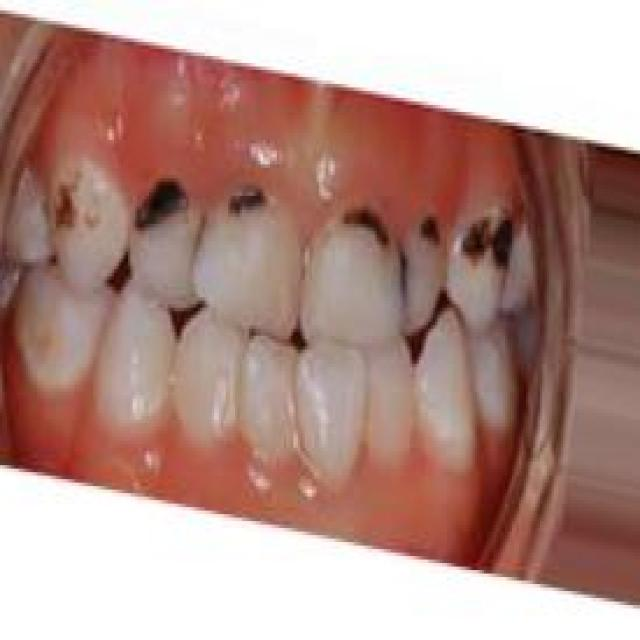caries: (48, 160, 116, 248), (124, 170, 196, 248), (338, 190, 398, 270), (215, 167, 274, 236), (490, 207, 524, 288), (456, 204, 489, 284), (416, 202, 450, 261)
